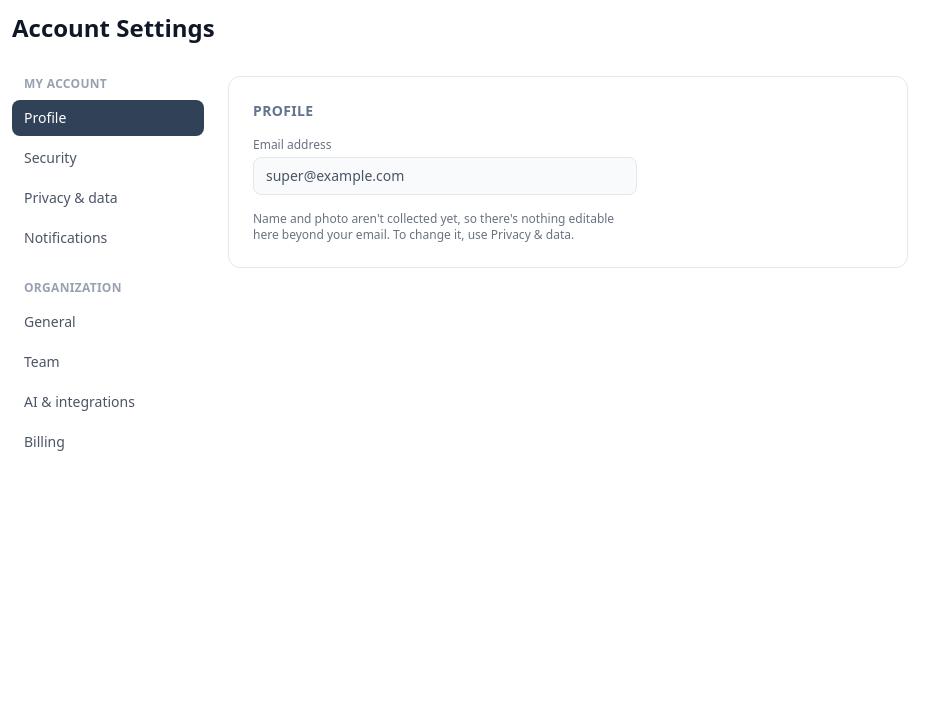
Test case: SettingsPage › also shows the danger zone for a superuser mid-impersonation
Click the button "General": (108, 322) [12,304,204,340]
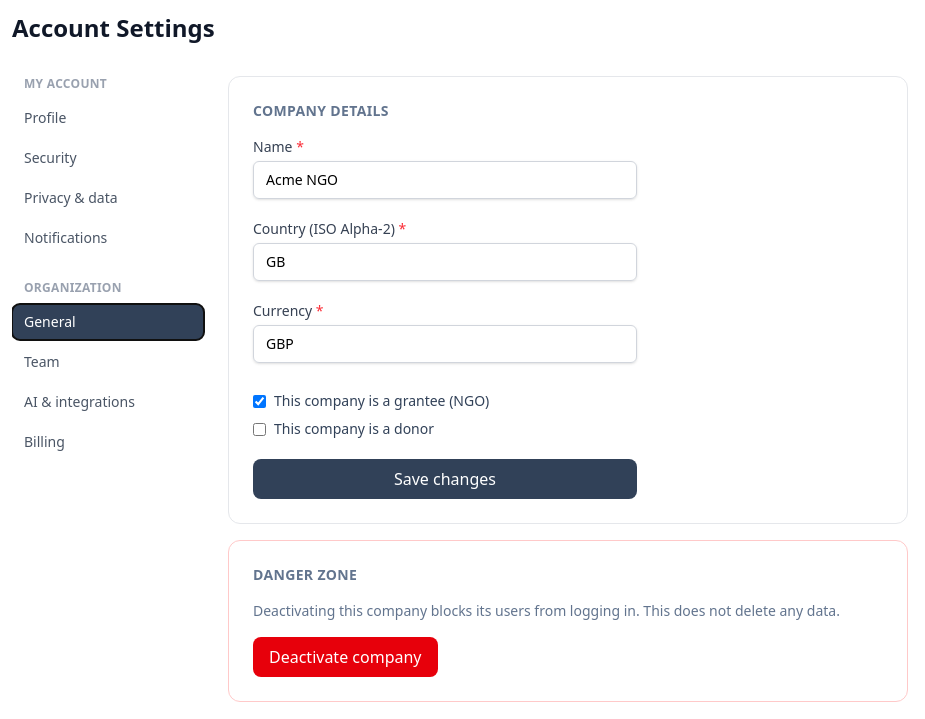
Now the heading "Company details" is shown, box [253,101,389,121]
Now the heading "Danger zone" is shown, box [253,565,357,585]
